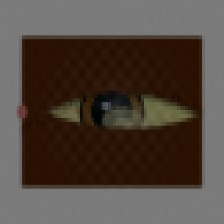corneal_ulcer: (89, 94, 156, 147)
